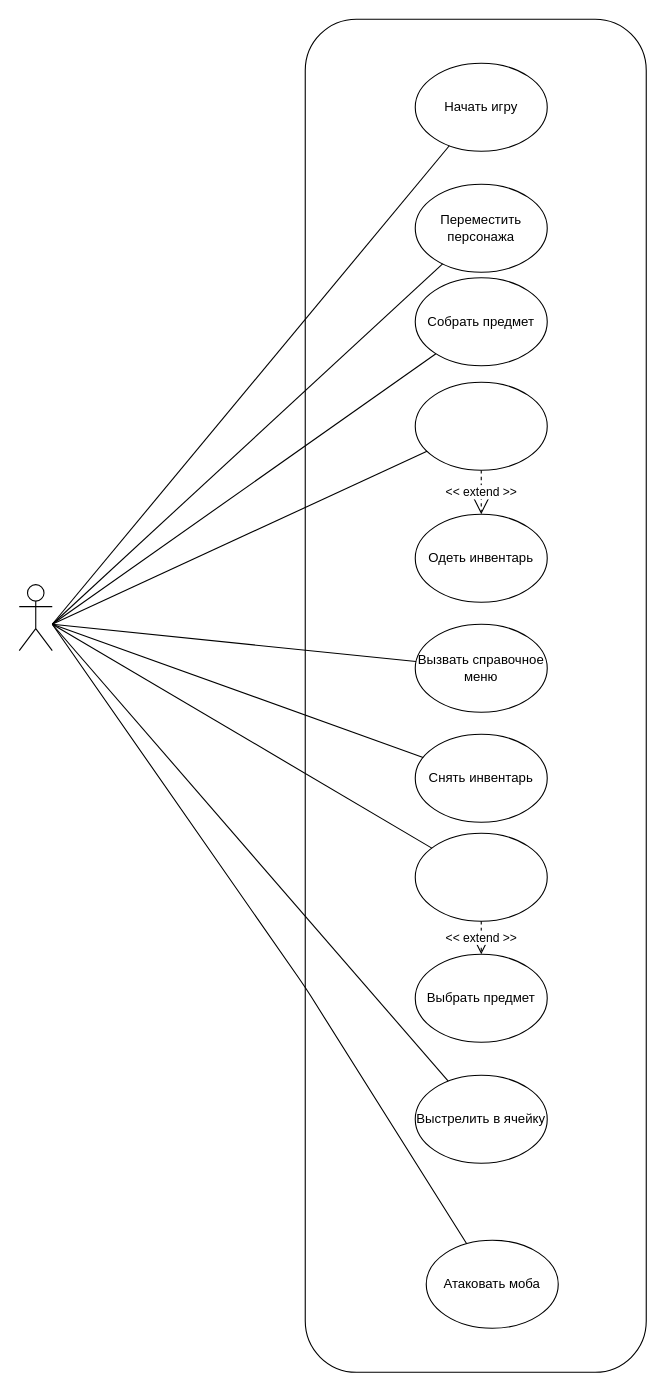
Some shapes in this 666 by 1392 pixel diagram are drawn without their labels. The centre of each missing label's shape, as x and y in pixels:
Actor: the point at 35,617
Вызвать меню со списком инвентаря: the point at 480,425
Вызвать меню со списком собранных предметов: the point at 480,876
